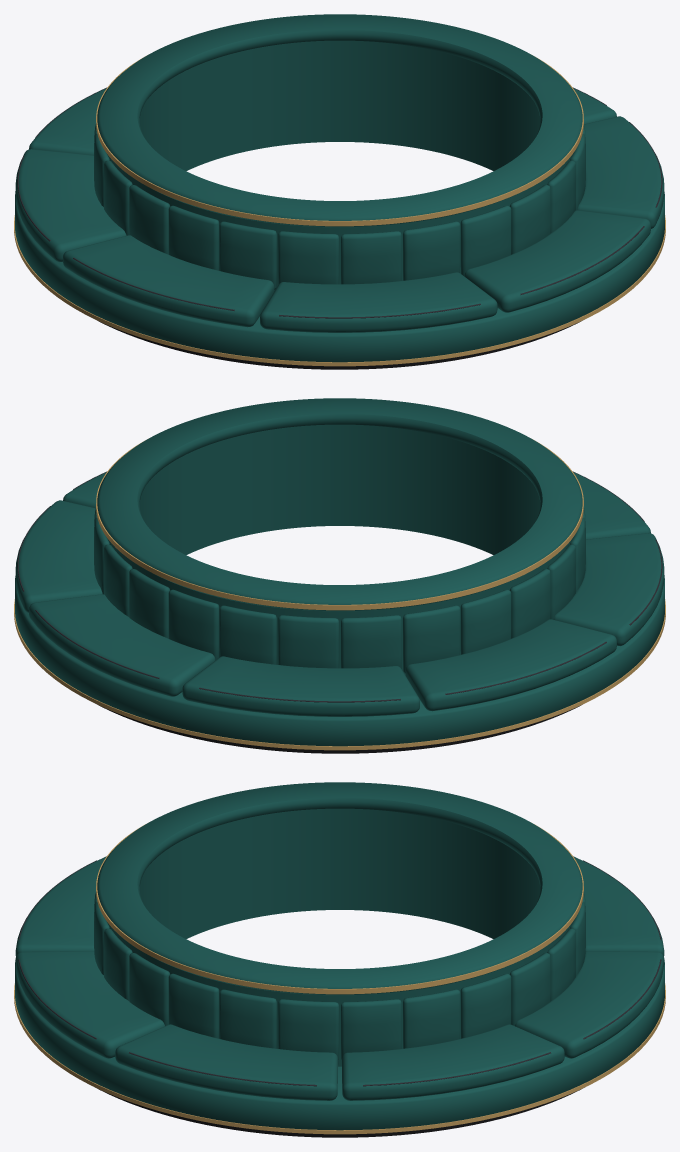
File: banquette_round.glb
3 views of the same model, one above another, from view 1: azimuth 30°, elevation 25°; view 2: azimuth 150°, elevation 25°; view 3: azimuth 270°, elevation 25° (orthographic).
Visible parts, largest first — view 1: BackBody_LOD0, BackCap_LOD0, Base_LOD0, Cushion5_LOD0, Cushion4_LOD0, Cushion6_LOD0, Cushion3_LOD0, Cushion7_LOD0, CapBand_LOD0, Kick_LOD0, Channel15_LOD0, Channel16_LOD0 (+13 smaller); view 2: BackBody_LOD0, BackCap_LOD0, Base_LOD0, Cushion2_LOD0, Cushion3_LOD0, Cushion1_LOD0, Cushion4_LOD0, Cushion0_LOD0, CapBand_LOD0, Kick_LOD0, Channel8_LOD0, Channel7_LOD0 (+13 smaller); view 3: BackBody_LOD0, BackCap_LOD0, Base_LOD0, Cushion0_LOD0, Cushion7_LOD0, Cushion6_LOD0, Cushion1_LOD0, Cushion2_LOD0, Cushion5_LOD0, CapBand_LOD0, Kick_LOD0, Channel23_LOD0 (+12 smaller).
Boxes of the visible parts, box(x1,y1,x2,y2) form: BackBody_LOD0: box(107, 40, 572, 291); BackCap_LOD0: box(97, 14, 582, 227); Base_LOD0: box(15, 191, 664, 362); Cushion5_LOD0: box(260, 272, 497, 332); Cushion4_LOD0: box(63, 235, 274, 327); Cushion6_LOD0: box(464, 210, 650, 312); Cushion3_LOD0: box(15, 149, 126, 262); Cushion7_LOD0: box(577, 116, 664, 228); CapBand_LOD0: box(96, 54, 583, 226); Kick_LOD0: box(14, 215, 665, 366); Channel15_LOD0: box(278, 231, 338, 284); Channel16_LOD0: box(341, 231, 401, 284); BackBody_LOD0: box(107, 424, 572, 675); BackCap_LOD0: box(97, 398, 582, 611); Base_LOD0: box(15, 575, 664, 746); Cushion2_LOD0: box(182, 656, 419, 716); Cushion3_LOD0: box(405, 619, 616, 711); Cushion1_LOD0: box(29, 594, 215, 696); Cushion4_LOD0: box(553, 533, 664, 646); Cushion0_LOD0: box(15, 500, 102, 612); CapBand_LOD0: box(96, 438, 583, 610); Kick_LOD0: box(14, 599, 665, 750); Channel8_LOD0: box(341, 615, 401, 668); Channel7_LOD0: box(278, 615, 338, 668); BackBody_LOD0: box(107, 808, 572, 1066); BackCap_LOD0: box(97, 782, 582, 995); Base_LOD0: box(15, 958, 664, 1130); Cushion0_LOD0: box(341, 1024, 564, 1100); Cushion7_LOD0: box(115, 1024, 338, 1100); Cushion6_LOD0: box(15, 951, 164, 1058); Cushion1_LOD0: box(515, 951, 664, 1058); Cushion2_LOD0: box(573, 856, 664, 956); Cushion5_LOD0: box(15, 856, 106, 956); CapBand_LOD0: box(96, 822, 583, 994); Kick_LOD0: box(14, 983, 665, 1134); Channel23_LOD0: box(278, 999, 338, 1059).
Bounding box in the file's own units: 4.68 × 0.97 × 4.68.
